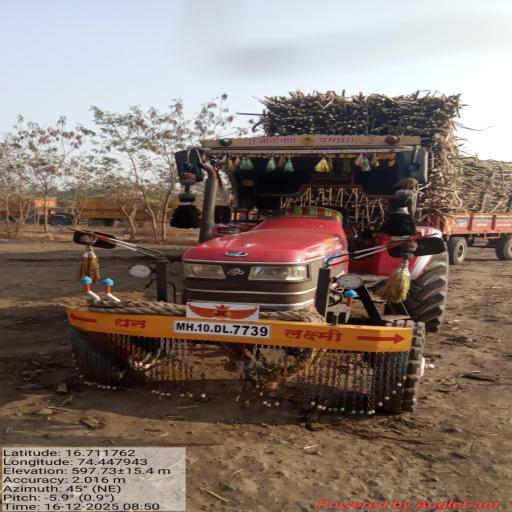number_plate: (174, 320, 270, 338)
